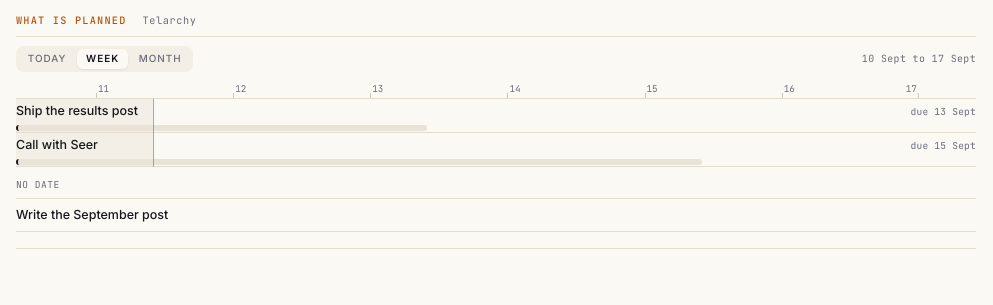
Test: what is planned, in the data room › an entry with no words says so when opened
The image size is (993, 305).
Click the button "Ship the results post due 13 Sept".
click(77, 111)  # box [16,99,976,132]
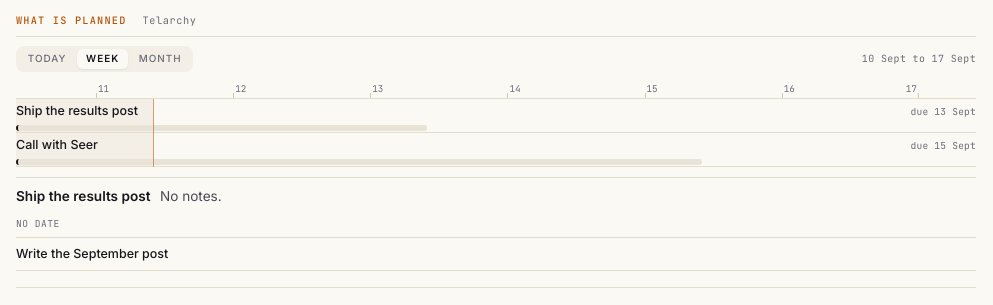
Expected: the text "No notes." is shown, [156,188,222,204]
